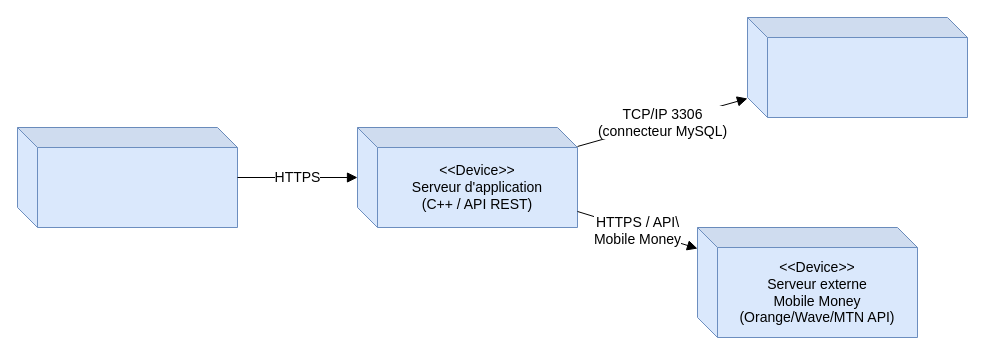
Image size: 985x355. Some labels were removed from this diagram. The shapes that lost their labels are listed below. From the top down, each one's centre as x and y in pixels, then its label:
At [857,67]: "<<Device >> Serveur de base de donnees (MySQL)".
At [127,177]: "<<Device >> Poste Client (navigateur / app mobile)".
